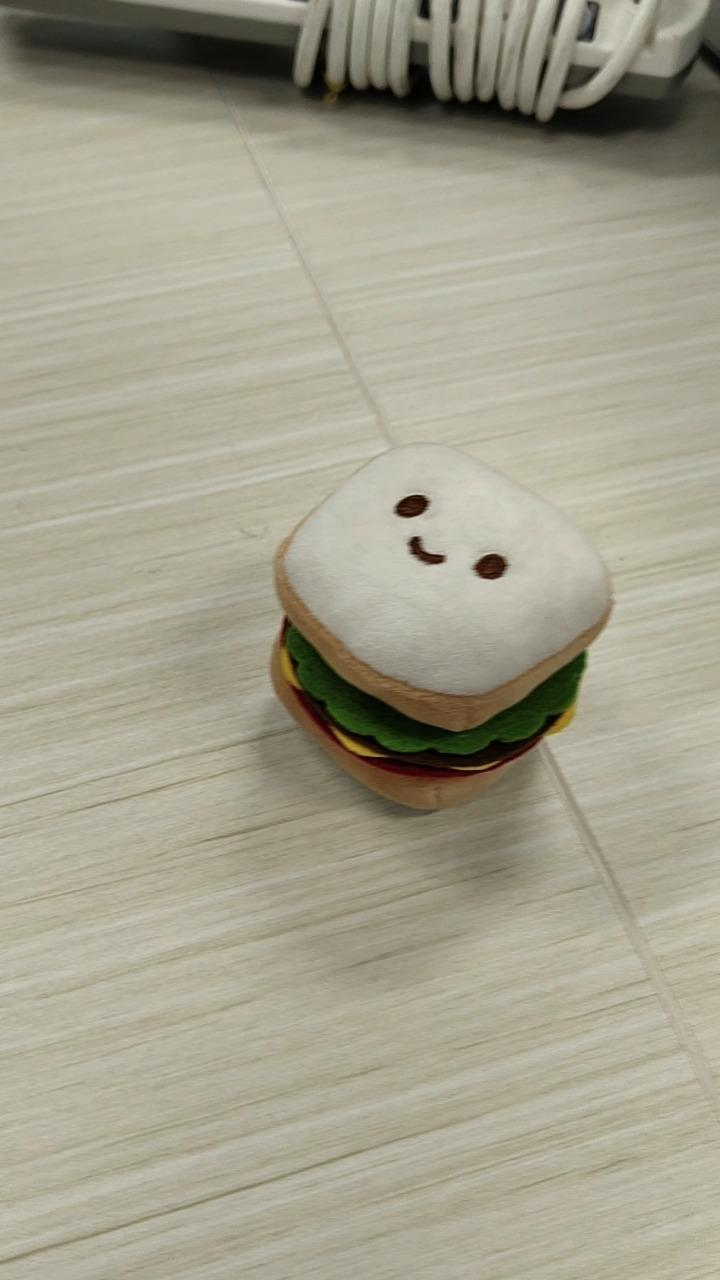objects: (268, 439, 614, 812)
